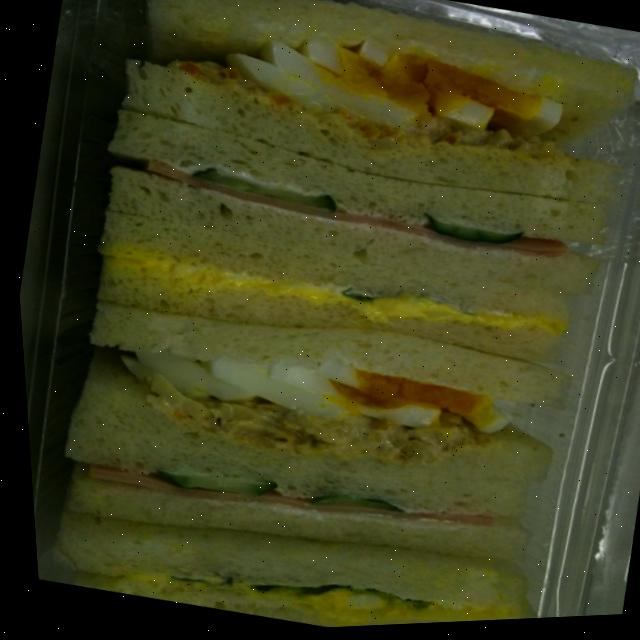三明治: (2, 0, 640, 640)
